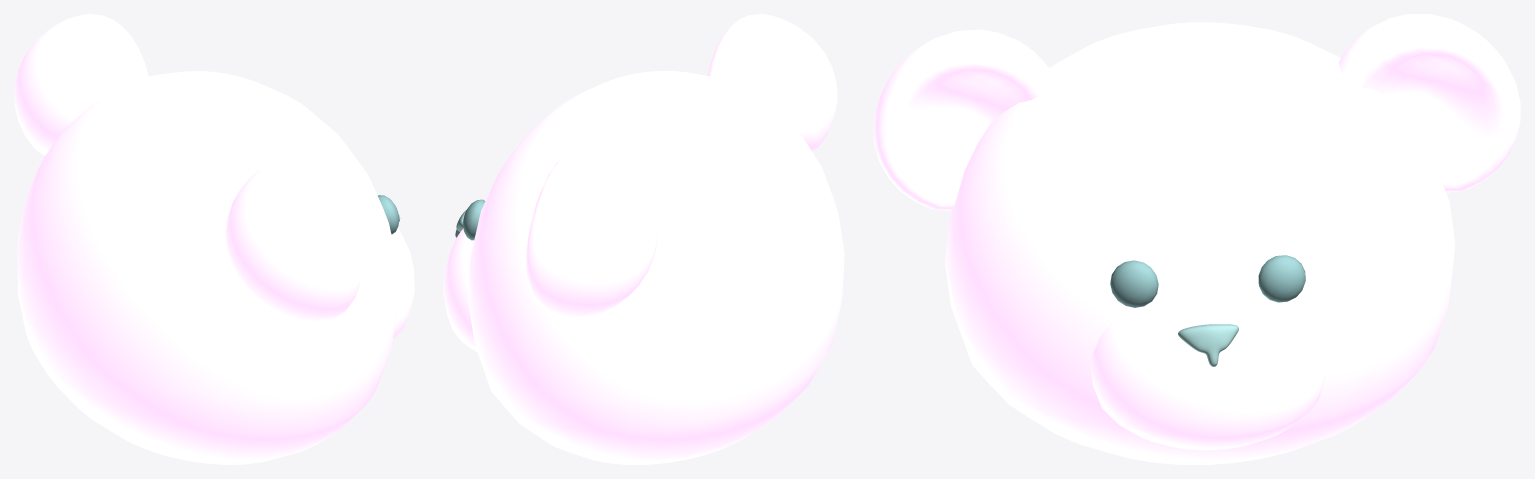
File: teddyHead.gltf
The picture shows the model from 3 angles, left to right: view 1: azimuth 30°, elevation 25°; view 2: azimuth 150°, elevation 25°; view 3: azimuth 270°, elevation 25°; orthographic projection. The views are drawn at different scales.
Parts seen in each view (by area): view 1: Sphere002, Sphere002_2; view 2: Sphere002, Sphere002_2; view 3: Sphere002, Sphere002_2, Sphere002_1.
Boxes of the visible parts, <box> form: Sphere002: <box>14,14,414,464</box>; Sphere002_2: <box>378,195,398,234</box>; Sphere002: <box>443,14,844,464</box>; Sphere002_2: <box>463,199,485,240</box>; Sphere002: <box>873,14,1520,464</box>; Sphere002_2: <box>1110,255,1305,307</box>; Sphere002_1: <box>1178,324,1238,366</box>.
Bounding box in the file's own units: 0.2496 × 0.2413 × 0.3452.
